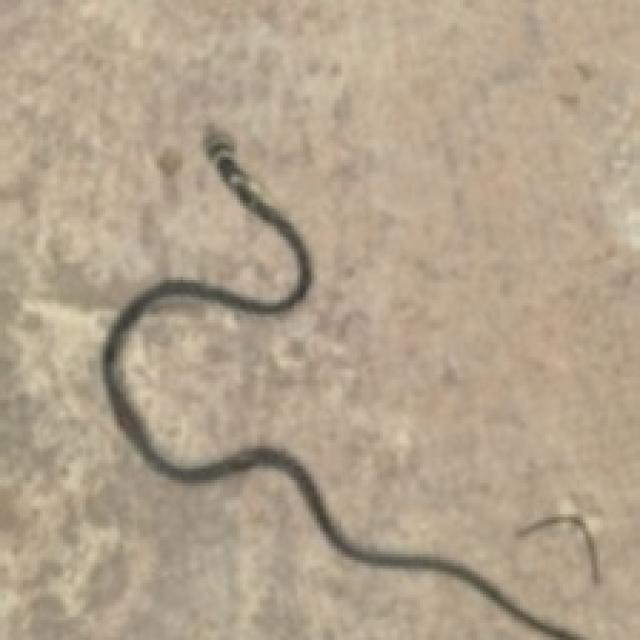king cobra: (103, 126, 583, 637)
